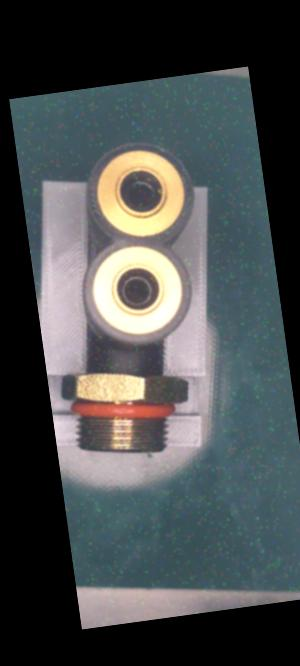joint line: (122, 349, 131, 372)
